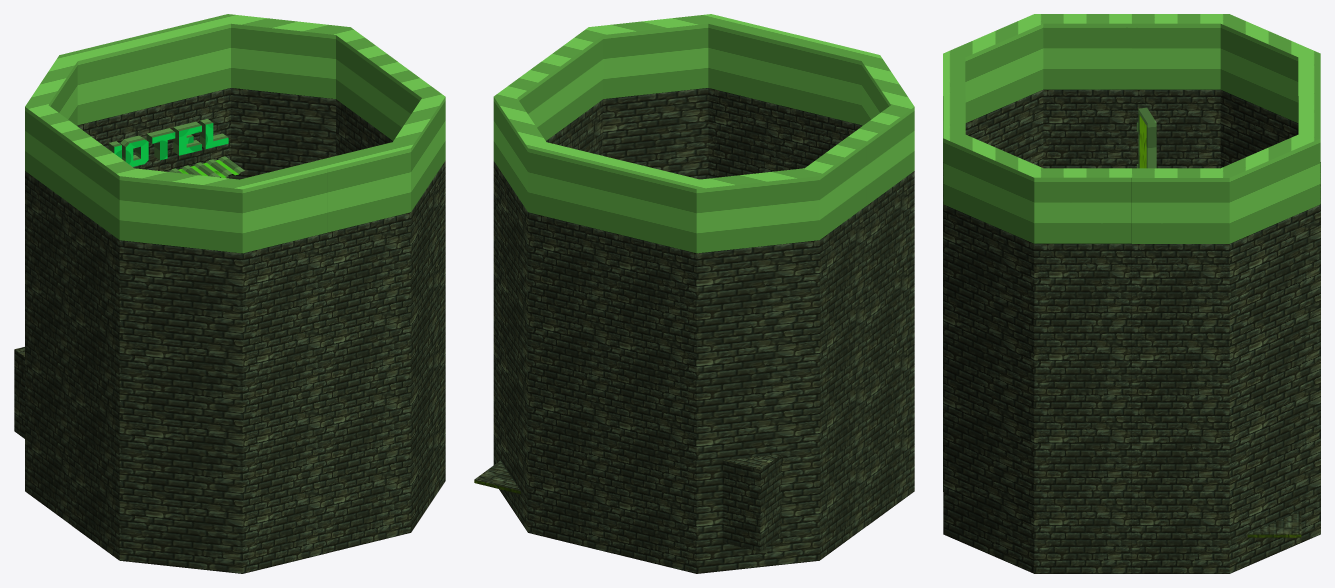
Rendered from road13.glb.
3 views of the same model, side by side, from view 1: azimuth 30°, elevation 25°; view 2: azimuth 150°, elevation 25°; view 3: azimuth 270°, elevation 25° (orthographic). The views are drawn at different scales.
Parts seen in each view (by area): view 1: wall_cornerEdge (×8), sign_hotel, floor, sheet_block; view 2: wall_cornerEdge (×8), floor (×2); view 3: wall_cornerEdge (×8), sign_rectangle, floor.
Part boxes in pixels (x1,y1,x2,y2): wall_cornerEdge (×8): (25, 14, 445, 573); sign_hotel: (108, 119, 228, 166); floor: (14, 347, 24, 438); sheet_block: (169, 156, 244, 177); wall_cornerEdge (×8): (493, 14, 914, 573); floor (×2): (474, 454, 781, 551); wall_cornerEdge (×8): (943, 14, 1320, 573); sign_rectangle: (1136, 107, 1156, 168); floor: (1247, 511, 1301, 537).
Bounding box in the file's own units: 4.26 × 4.8 × 4.15.
Materials: 44 (42 with a texture image).
